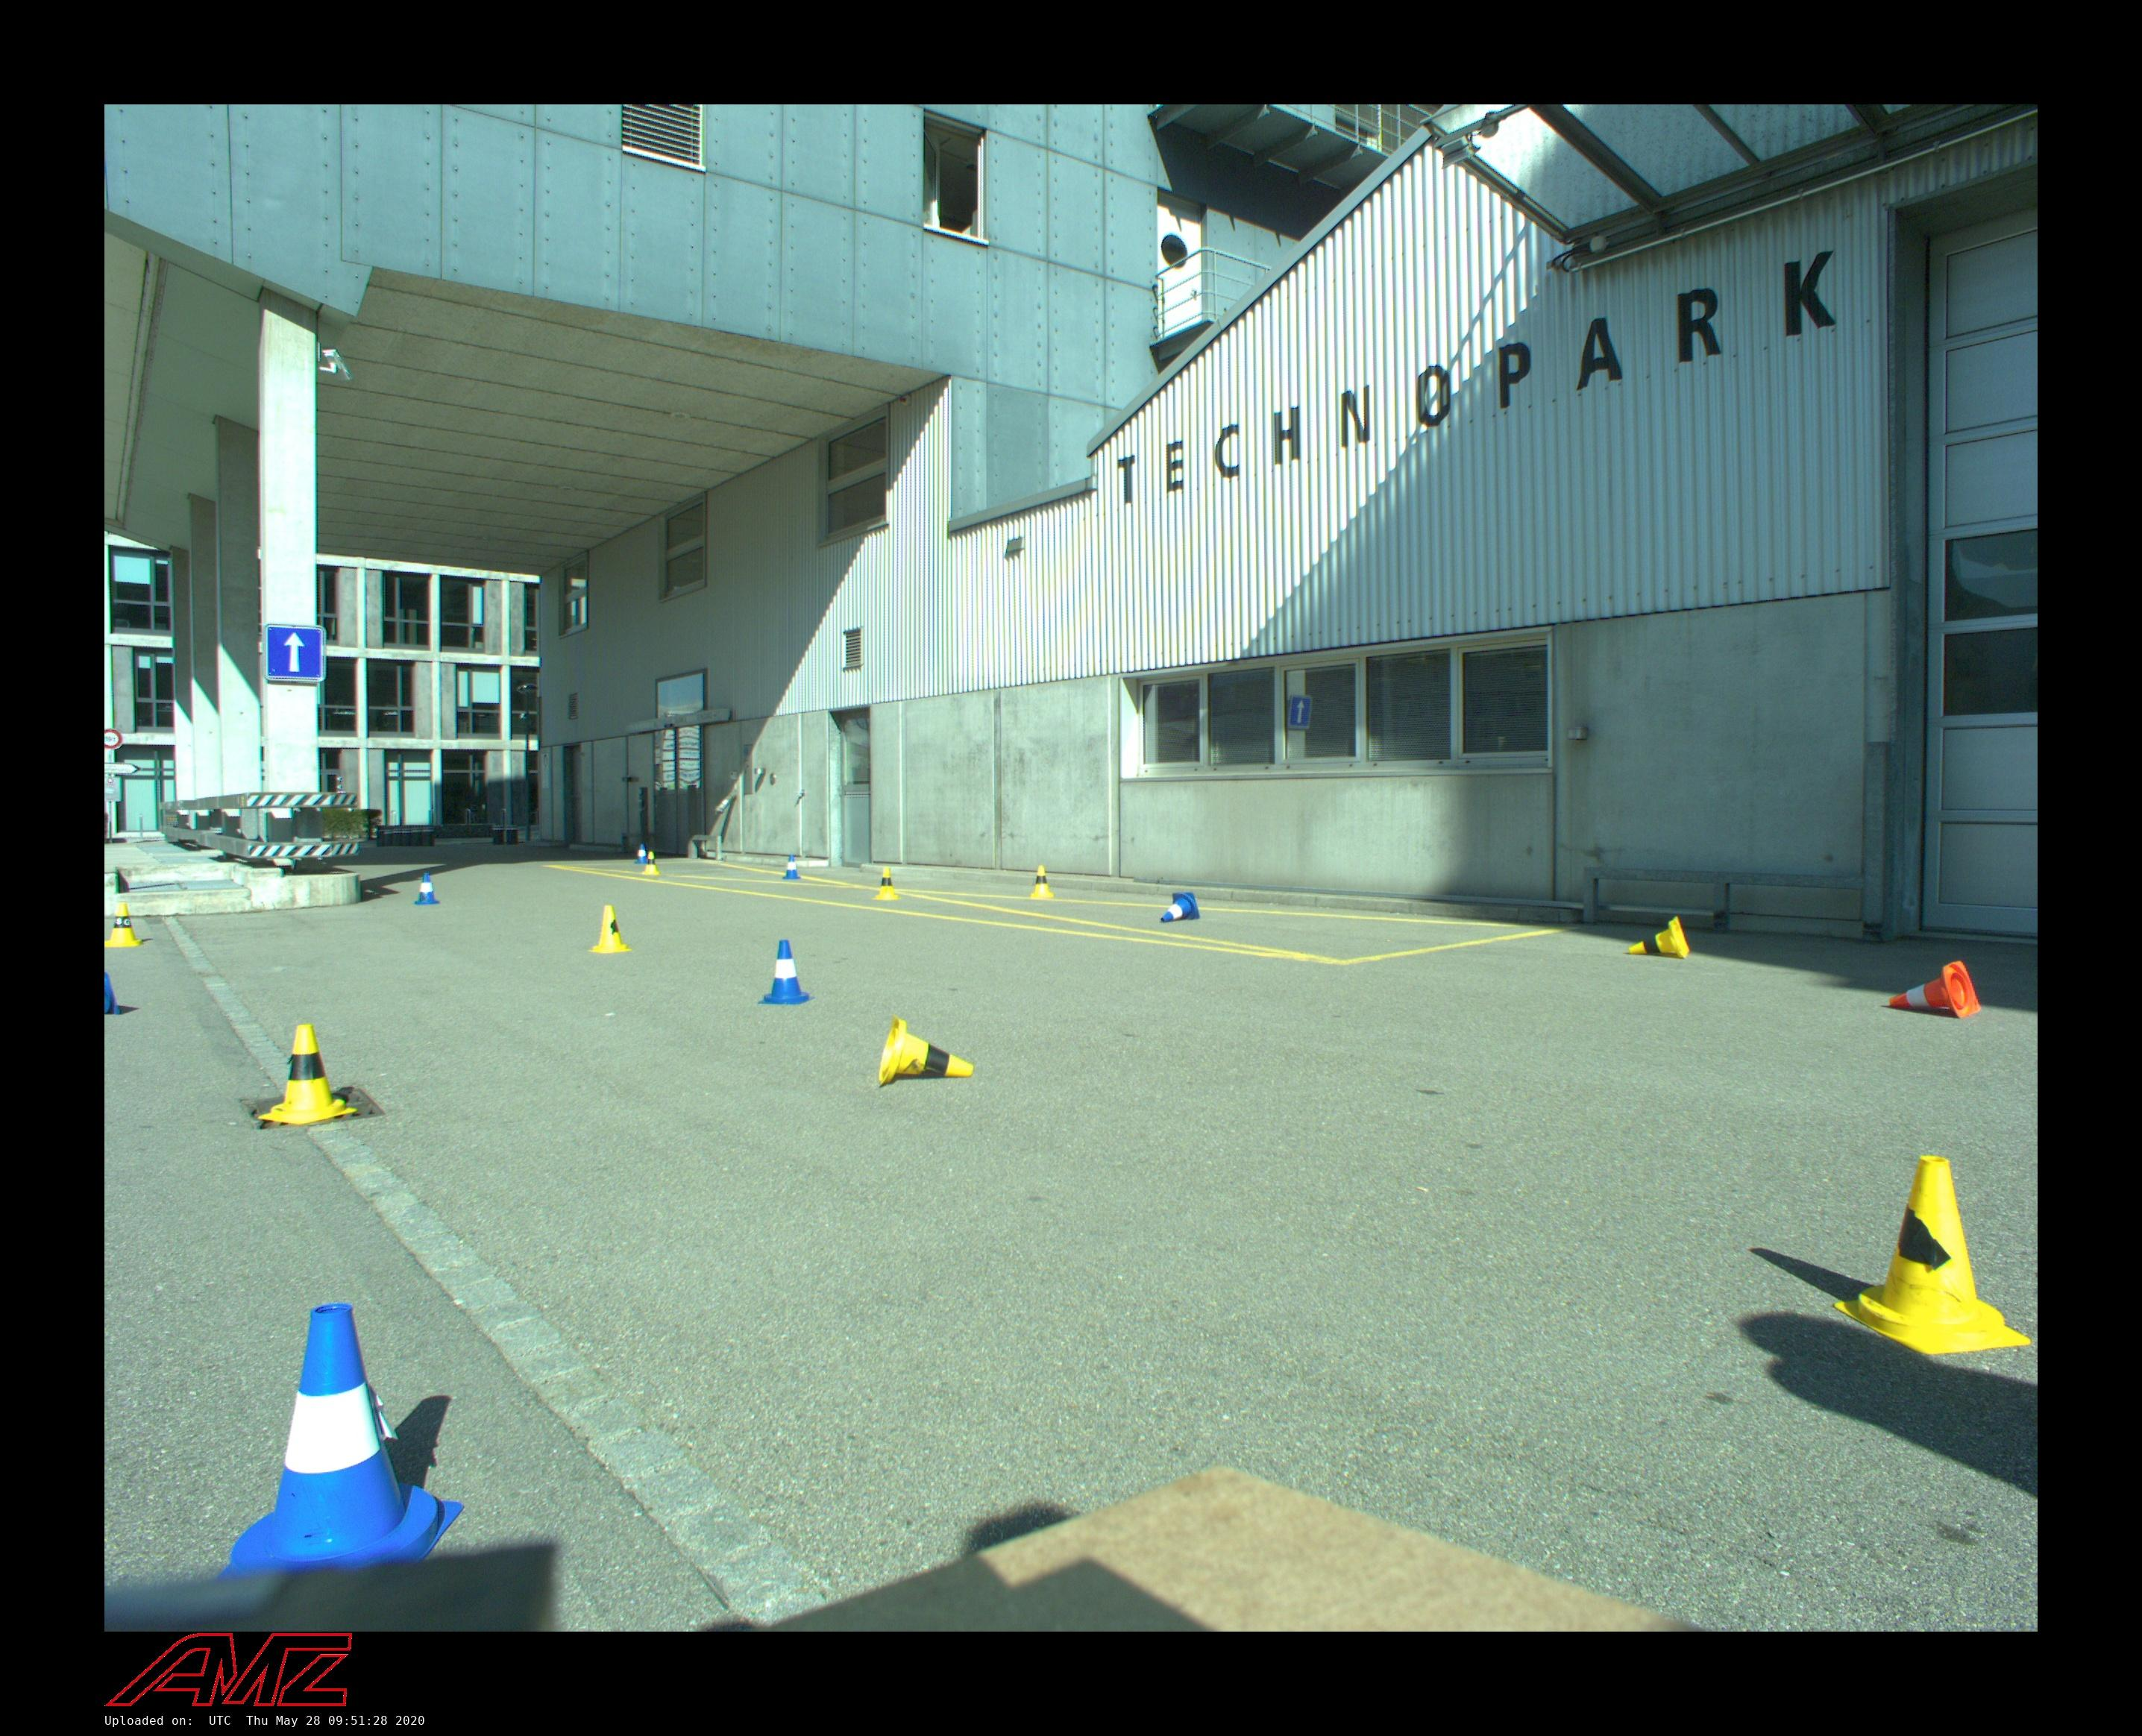blue_cone: (213, 1304, 464, 1587), (758, 939, 815, 1004), (1160, 891, 1199, 923), (415, 873, 439, 905), (783, 854, 801, 880), (634, 845, 650, 864)
orange_cone: (1890, 960, 1981, 1019)
yellow_cone: (1834, 1155, 2030, 1353), (259, 1024, 358, 1125), (879, 1015, 974, 1088), (1628, 916, 1690, 958), (588, 905, 633, 953), (105, 902, 142, 948), (1031, 866, 1054, 898), (875, 868, 898, 900), (643, 852, 661, 875)
